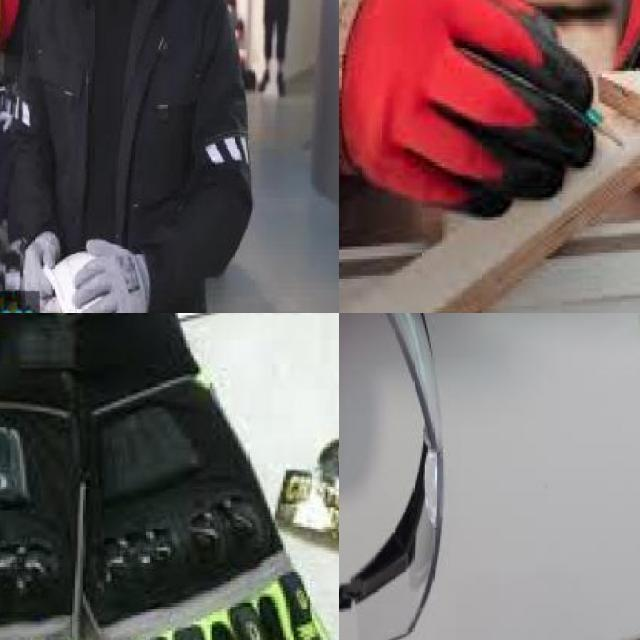apron: (75, 313, 339, 640), (339, 0, 600, 291), (0, 325, 86, 640), (71, 236, 150, 313), (23, 232, 61, 312)
